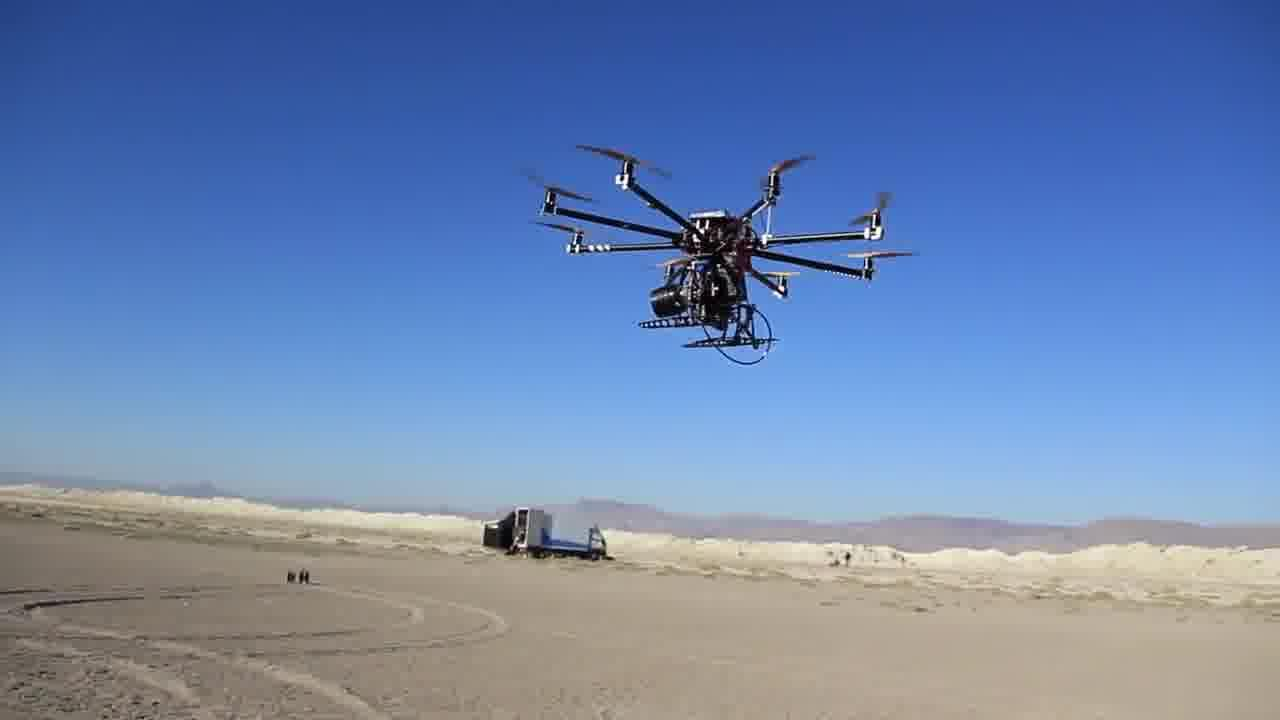drone: (537, 121, 855, 366)
